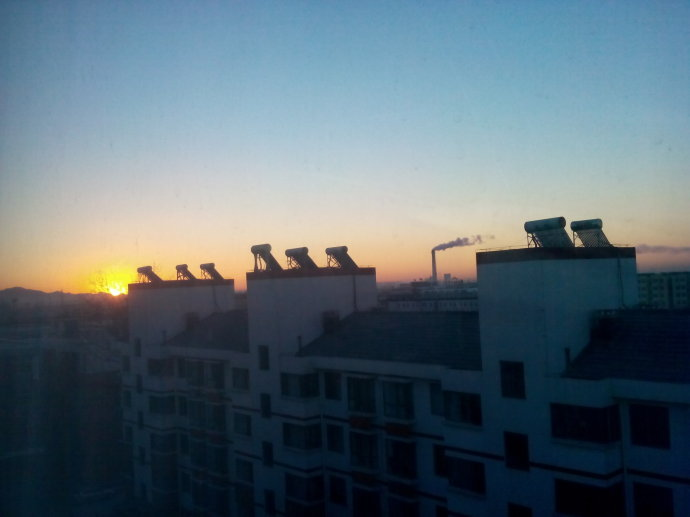dust: (428, 234, 483, 256)
